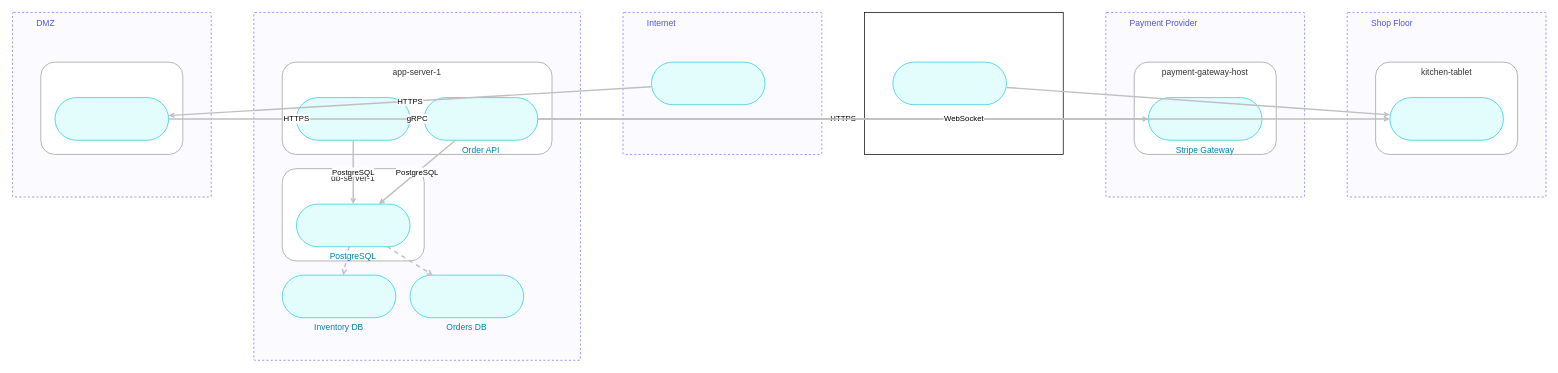
Some shapes in this 1558 by 373 pixel diagram are drawn without their labels. Here are the shapes that lost their labels. From the top down, the box of each, then its label:
(651, 61, 765, 105): Customer
(892, 61, 1006, 105): Kitchen Staff
(40, 61, 183, 154): web-server-1
(54, 97, 169, 140): Storefront
(296, 97, 410, 140): Inventory Service
(1389, 97, 1503, 140): Kitchen Display
(253, 12, 580, 360): Internal Network
